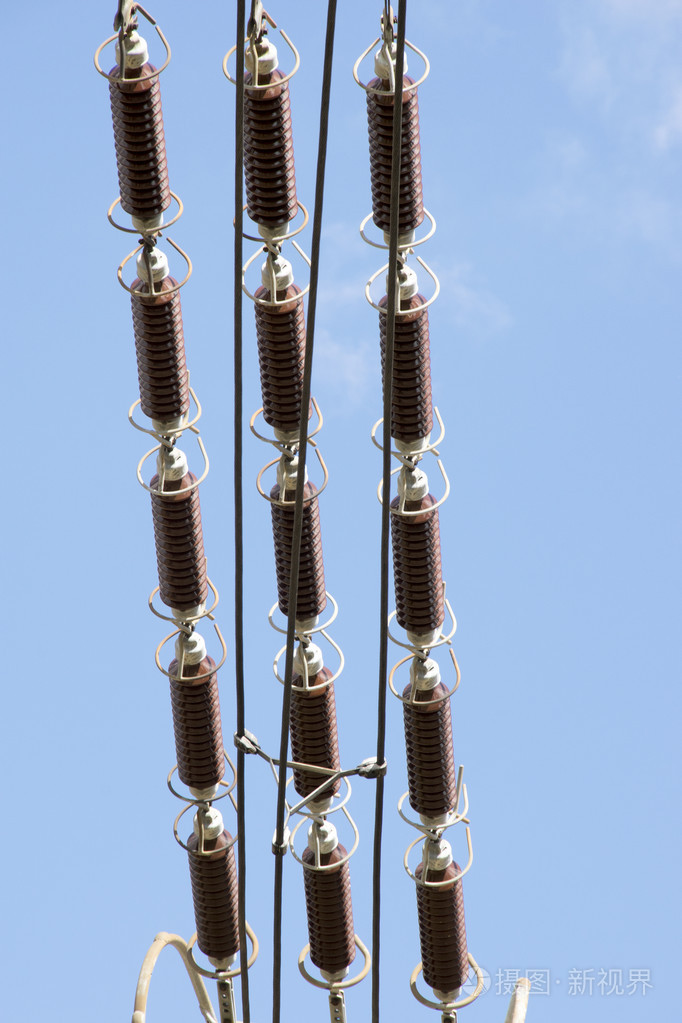insulator: (362, 73, 426, 234), (235, 74, 300, 231), (108, 61, 171, 213), (122, 276, 189, 418), (142, 476, 210, 611), (250, 289, 316, 428), (276, 666, 344, 800), (375, 296, 437, 442), (387, 492, 447, 629), (163, 655, 223, 792), (267, 478, 324, 621), (408, 866, 472, 991), (399, 681, 458, 812), (179, 830, 239, 958), (301, 844, 356, 971)
